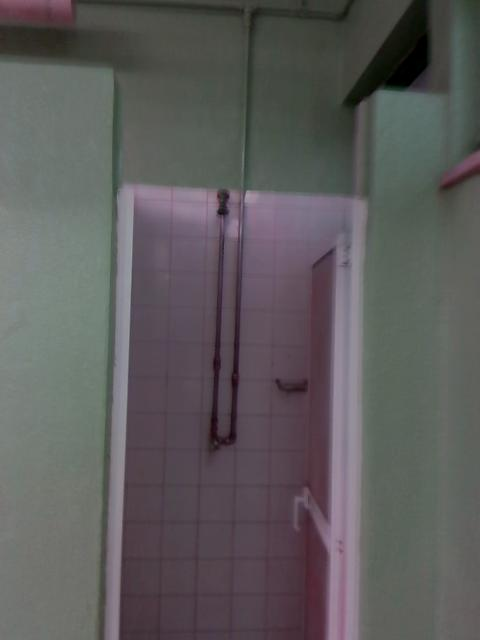open_door: (102, 182, 368, 639)
